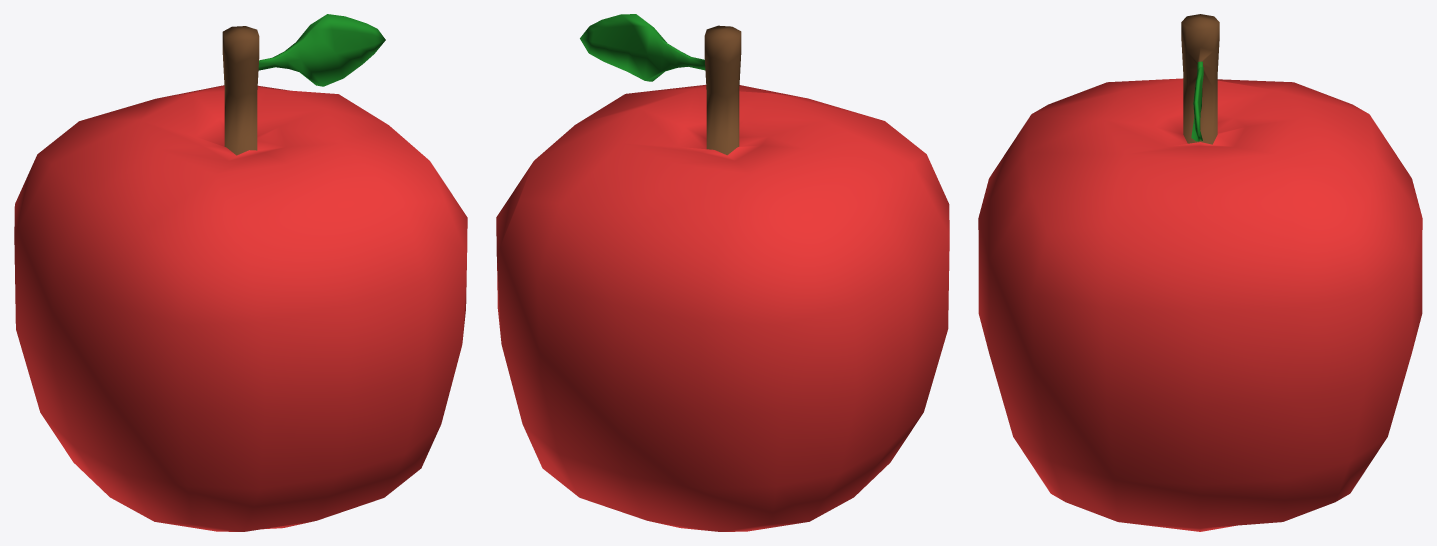
The model's file is Maca.fbx.
The picture shows the model from 3 angles, left to right: view 1: azimuth 30°, elevation 25°; view 2: azimuth 150°, elevation 25°; view 3: azimuth 270°, elevation 25°; orthographic projection. The views are drawn at different scales.
Visible parts, largest first — view 1: Maca; view 2: Maca; view 3: Maca.
Boxes of the visible parts, x1,y1,x2,y2 form: Maca: (14,14,467,531); Maca: (496,14,949,531); Maca: (978,14,1422,531).
Bounding box in the file's own units: 23.69 × 28.05 × 23.69.
